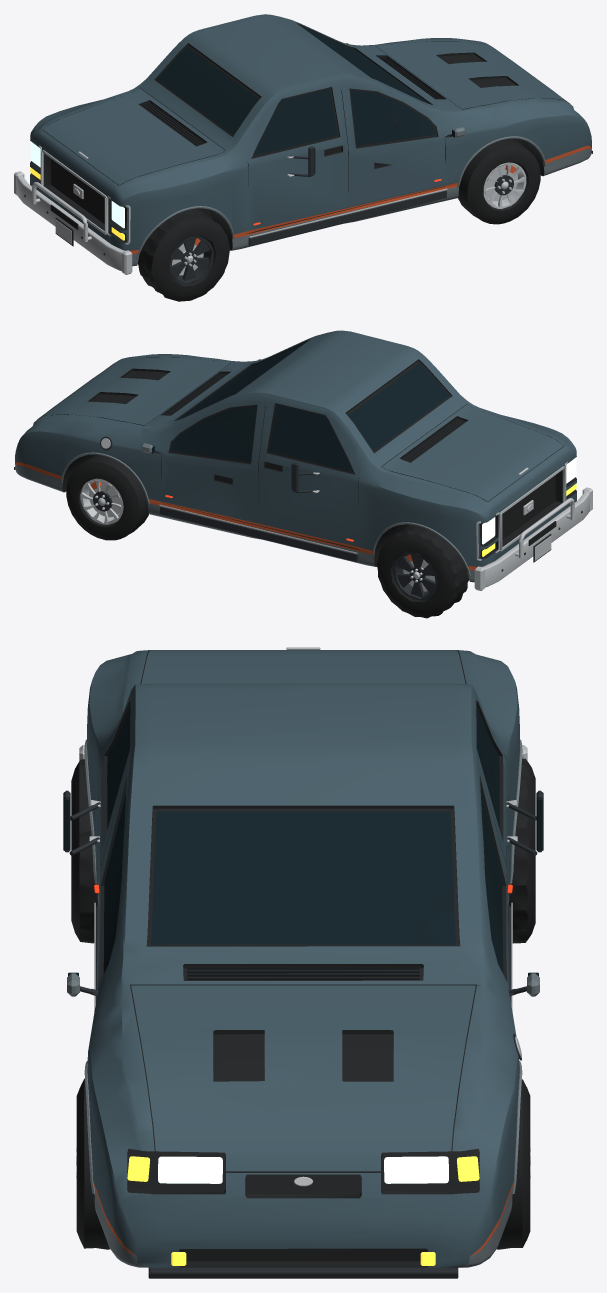
Rendered from deadbolt_hardsurface_LOD2.glb.
3 renders of one model, top to bottom at view 1: azimuth 30°, elevation 25°; view 2: azimuth 150°, elevation 25°; view 3: azimuth 270°, elevation 25°, orthographic. The views are drawn at different scales.
Visible parts, largest first — view 1: Body_DeadboltShell.001, Wheel_Truck_Tire_-1.001, Detail_BrushedMetal, Glass_TruckWindshield.001, Wheel_Coupe_Tire_-1.001, Glass_TruckSide_R.001, Glass_CoupeSide_R.001, Detail_Gunmetal, Glass_CoupeWindshield.001, Detail_Grille, Detail_Secondary, Wheel_Coupe_Hub_-1.001 (+4 smaller); view 2: Body_DeadboltShell.001, Wheel_Truck_Tire_+1.001, Detail_BrushedMetal, Glass_TruckWindshield.001, Wheel_Coupe_Tire_+1.001, Glass_TruckSide_L.001, Glass_CoupeSide_L.001, Detail_Gunmetal, Glass_CoupeWindshield.001, Detail_Grille, Detail_Secondary, Wheel_Coupe_Hub_+1.001 (+4 smaller); view 3: Body_DeadboltShell.001, Glass_CoupeWindshield.001, Detail_Gunmetal, Detail_Headlight, Wheel_Truck_Tire_+1.001, Wheel_Truck_Tire_-1.001, Wheel_Coupe_Tire_-1.001, Wheel_Coupe_Tire_+1.001, Detail_Grille, Detail_Secondary, Detail_Rubber, Glass_CoupeSide_L.001 (+5 smaller).
Boxes of the visible parts, x1,y1,x2,y2 form: Body_DeadboltShell.001: (30, 14, 591, 266); Wheel_Truck_Tire_-1.001: (137, 209, 229, 301); Detail_BrushedMetal: (14, 145, 447, 274); Glass_TruckWindshield.001: (157, 46, 258, 135); Wheel_Coupe_Tire_-1.001: (458, 138, 540, 224); Glass_TruckSide_R.001: (254, 88, 337, 155); Glass_CoupeSide_R.001: (350, 90, 435, 145); Detail_Gunmetal: (24, 134, 452, 255); Glass_CoupeWindshield.001: (300, 26, 428, 103); Detail_Grille: (140, 57, 443, 145); Detail_Secondary: (136, 43, 545, 259); Wheel_Coupe_Hub_-1.001: (486, 165, 517, 201); Body_DeadboltShell.001: (15, 330, 576, 582); Wheel_Truck_Tire_+1.001: (376, 525, 469, 618); Detail_BrushedMetal: (101, 438, 592, 590); Glass_TruckWindshield.001: (348, 362, 449, 451); Wheel_Coupe_Tire_+1.001: (66, 454, 148, 540); Glass_TruckSide_L.001: (269, 405, 352, 471); Glass_CoupeSide_L.001: (171, 406, 256, 461); Detail_Gunmetal: (100, 436, 582, 571); Glass_CoupeWindshield.001: (178, 342, 306, 419); Detail_Grille: (163, 373, 465, 462); Detail_Secondary: (61, 359, 470, 576); Wheel_Coupe_Hub_+1.001: (89, 481, 121, 517); Body_DeadboltShell.001: (87, 650, 519, 1267); Glass_CoupeWindshield.001: (151, 811, 455, 945); Detail_Gunmetal: (63, 790, 543, 1272); Detail_Headlight: (158, 1156, 448, 1183); Wheel_Truck_Tire_+1.001: (508, 758, 535, 943); Wheel_Truck_Tire_-1.001: (71, 759, 98, 943); Wheel_Coupe_Tire_-1.001: (76, 1078, 109, 1249); Wheel_Coupe_Tire_+1.001: (497, 1079, 530, 1249); Detail_Grille: (187, 967, 419, 979); Detail_Secondary: (67, 739, 539, 1193); Detail_Rubber: (148, 1272, 458, 1278); Glass_CoupeSide_L.001: (480, 792, 502, 972).
Bounding box in the file's own units: 5.33 × 1.8 × 2.23.
